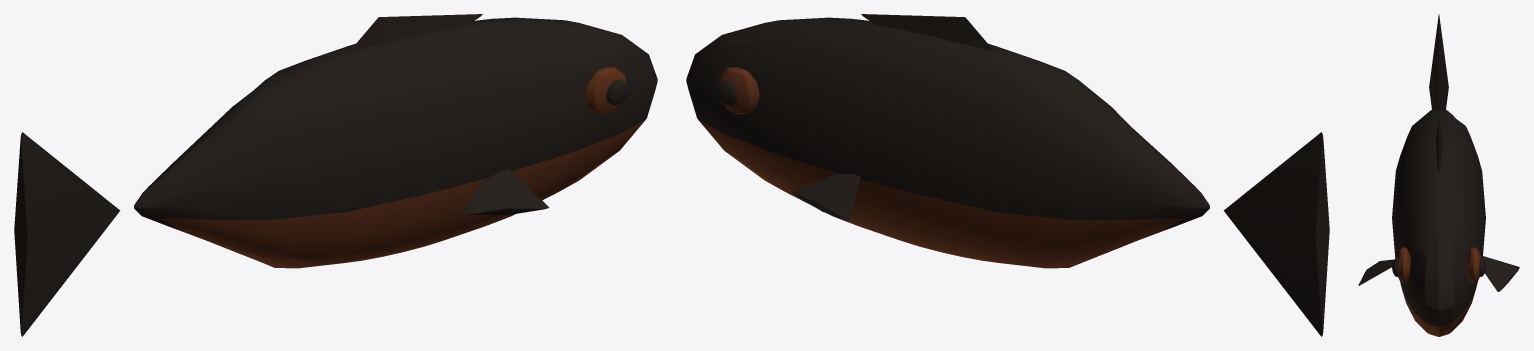
Rendered from Fish_Burnt.glb.
The picture shows the model from 3 angles, left to right: view 1: azimuth 30°, elevation 25°; view 2: azimuth 150°, elevation 25°; view 3: azimuth 270°, elevation 25°; orthographic projection. The views are drawn at different scales.
Parts seen in each view (by area): view 1: Fish_Burnt; view 2: Fish_Burnt; view 3: Fish_Burnt.
Boxes of the visible parts, x1=… form: Fish_Burnt: x1=14, y1=14, x2=657, y2=336; Fish_Burnt: x1=686, y1=14, x2=1329, y2=336; Fish_Burnt: x1=1358, y1=14, x2=1519, y2=336.
Bounding box in the file's own units: 0.3145 × 0.1116 × 0.0961.
